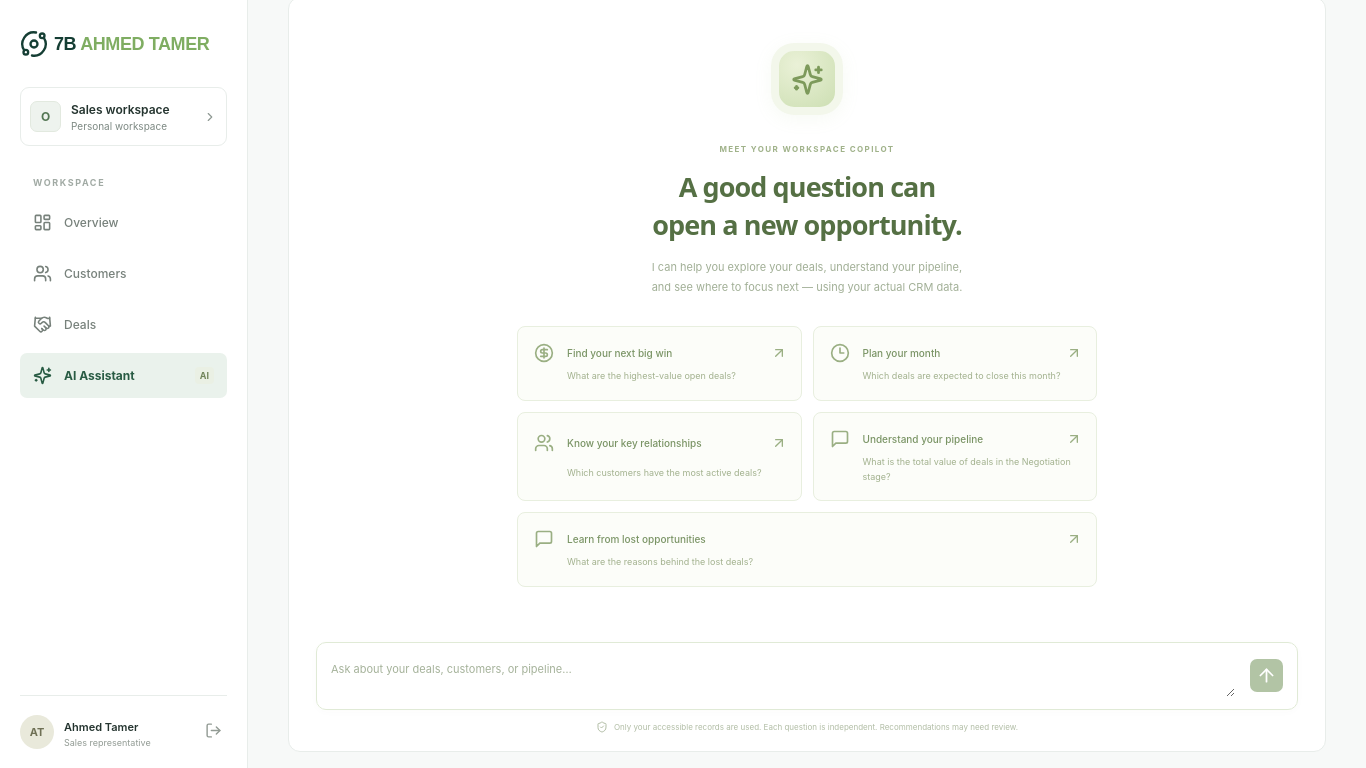
workspace integration › submits a chat question and displays a grounded answer
The width and height of the screenshot is (1366, 768).
(page scrolled)
Type "What is the negotiation value?" into the text box labelled "Ask about your deals" at {"x": 783, "y": 676}, box [331,655,1235,697]
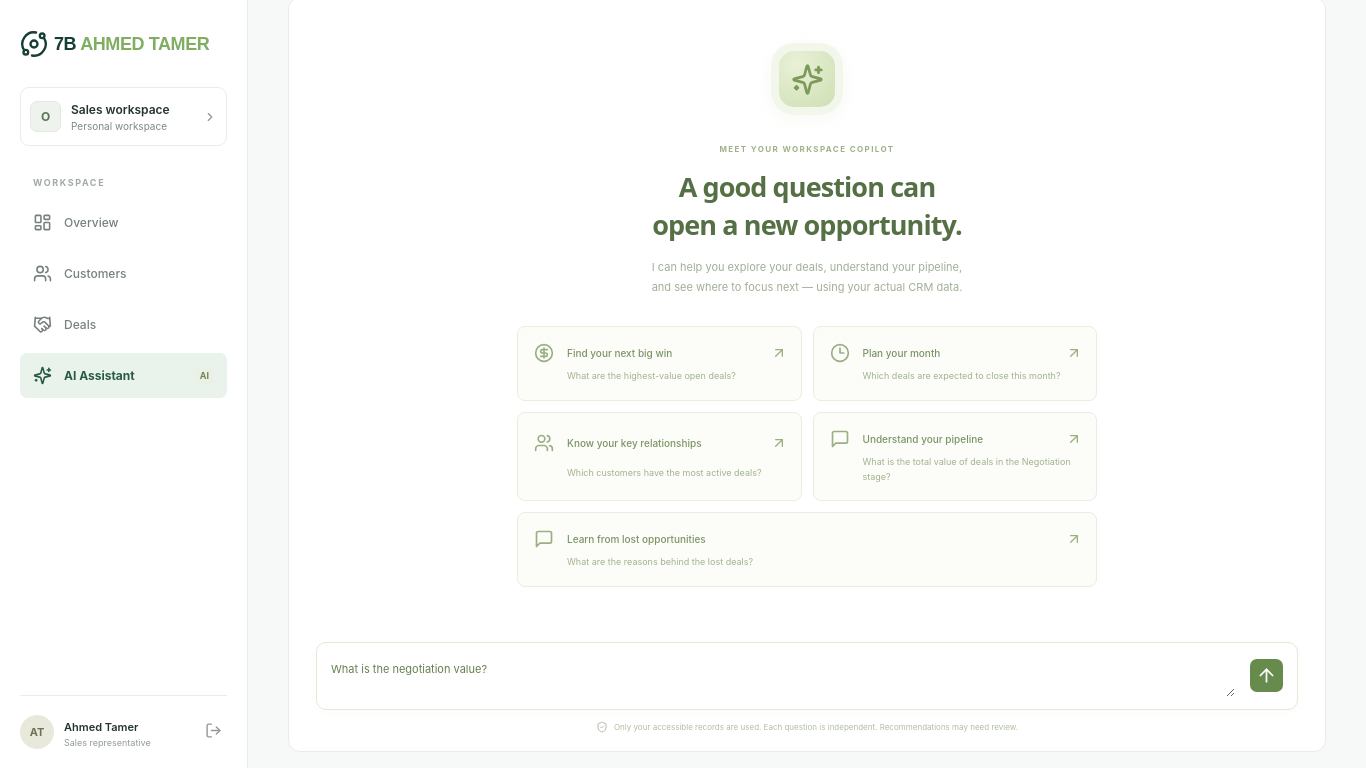
Click the button named "Send question" at {"x": 1266, "y": 676}, box [1250,659,1283,692]
(page scrolled)
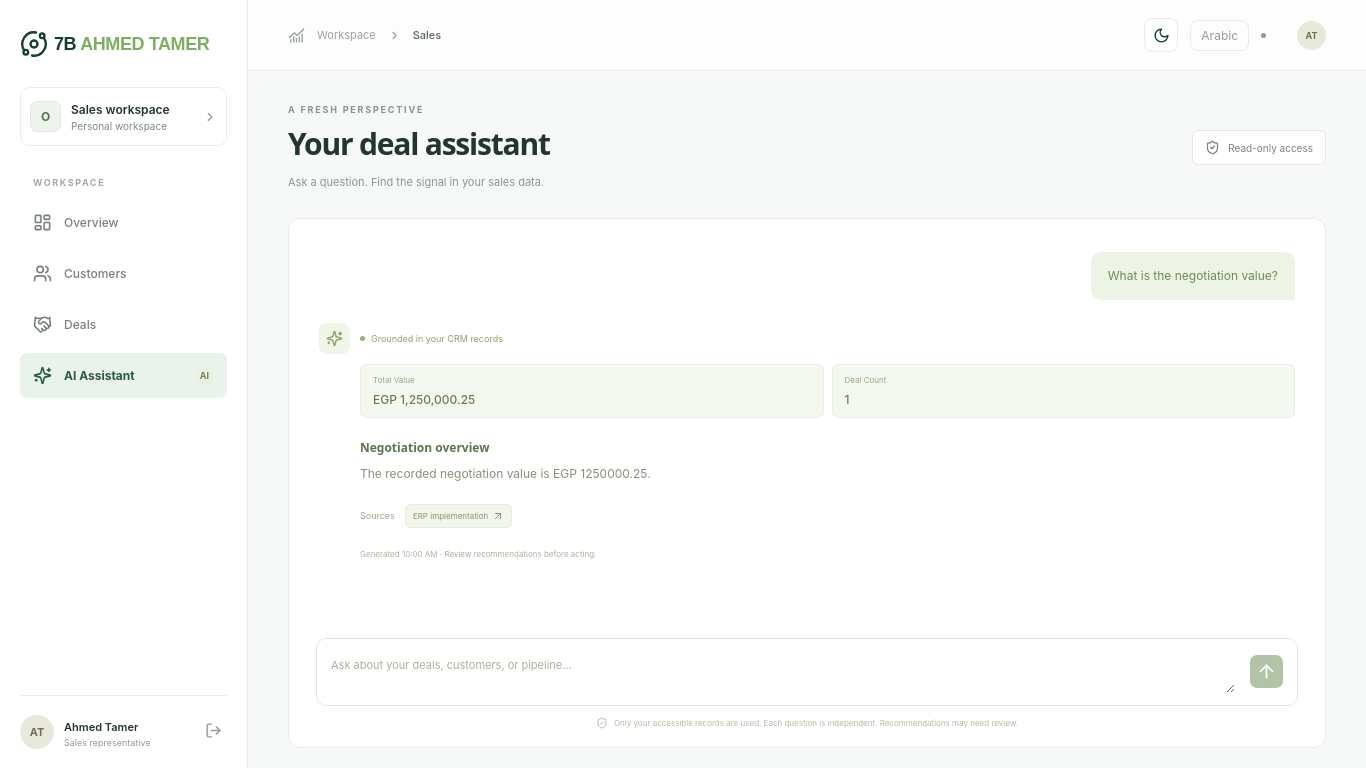
Check: the text "What is the negotiation value?" is shown, box [1091,252,1295,300]
Check: the heading "Negotiation overview" is shown, box [360,439,490,456]
